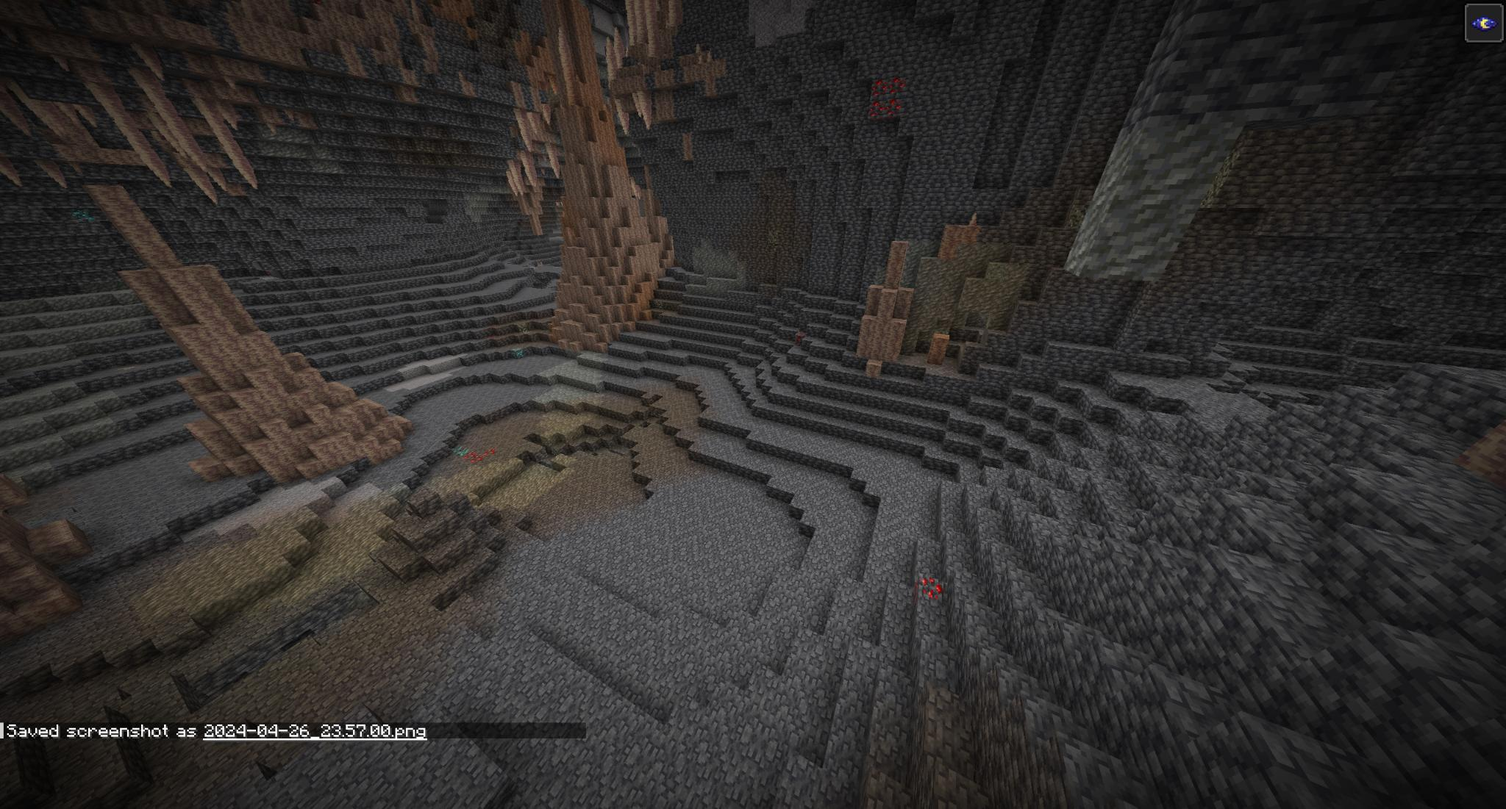diamond ore: (67, 198, 99, 228), (443, 442, 471, 460), (508, 342, 528, 364)
redstone ore: (863, 72, 916, 127), (913, 569, 946, 609), (466, 449, 499, 468), (786, 328, 811, 348)
